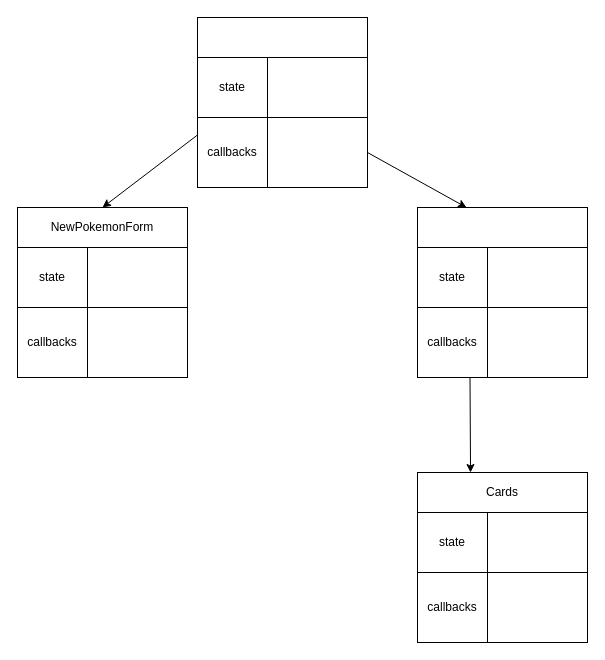
The diagram is 605 pixels wide and 660 high, and some of its shapes have lost their labels. Each missing label, with the box of its shape:
App: (196, 16, 368, 58)
DisplayCards: (416, 206, 588, 248)
